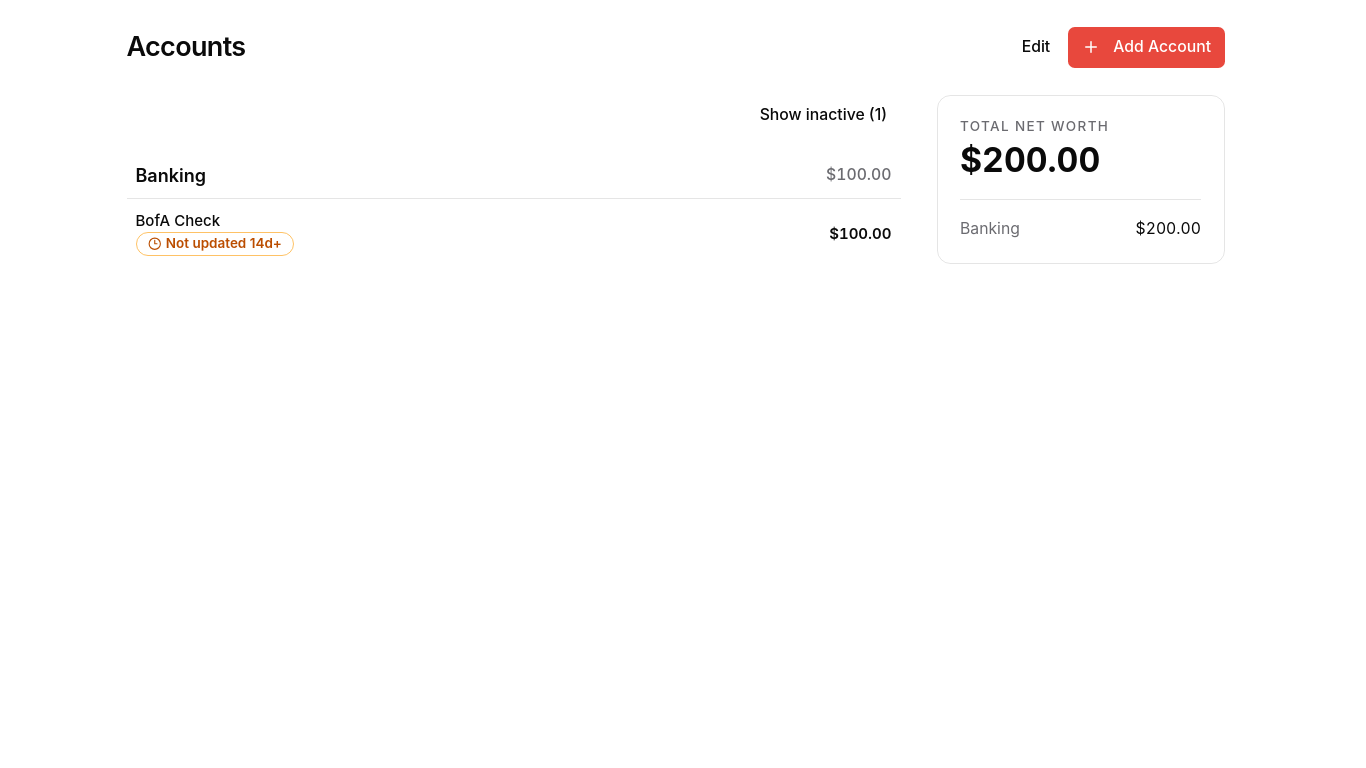
Test: Accounts page -- accessible account form › shows account-save failures inside the open dialog
The image size is (1366, 768).
Expected: the text "BofA Check" is shown, [136,210,220,230]
Click the button "Add Account" at [1146, 47], box [1068,27,1224,68]
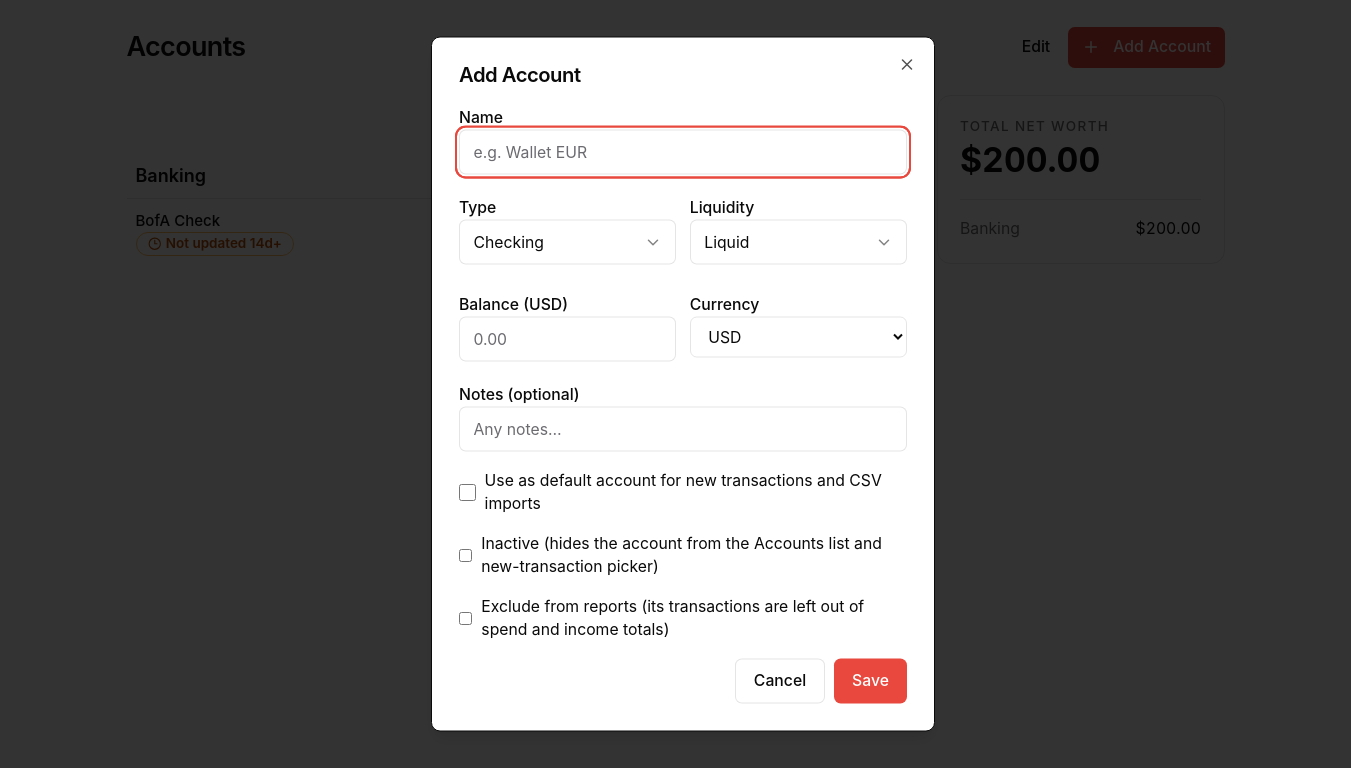
Type "New account" into the field labelled "Name" at [683, 152], box [459,130,907,175]
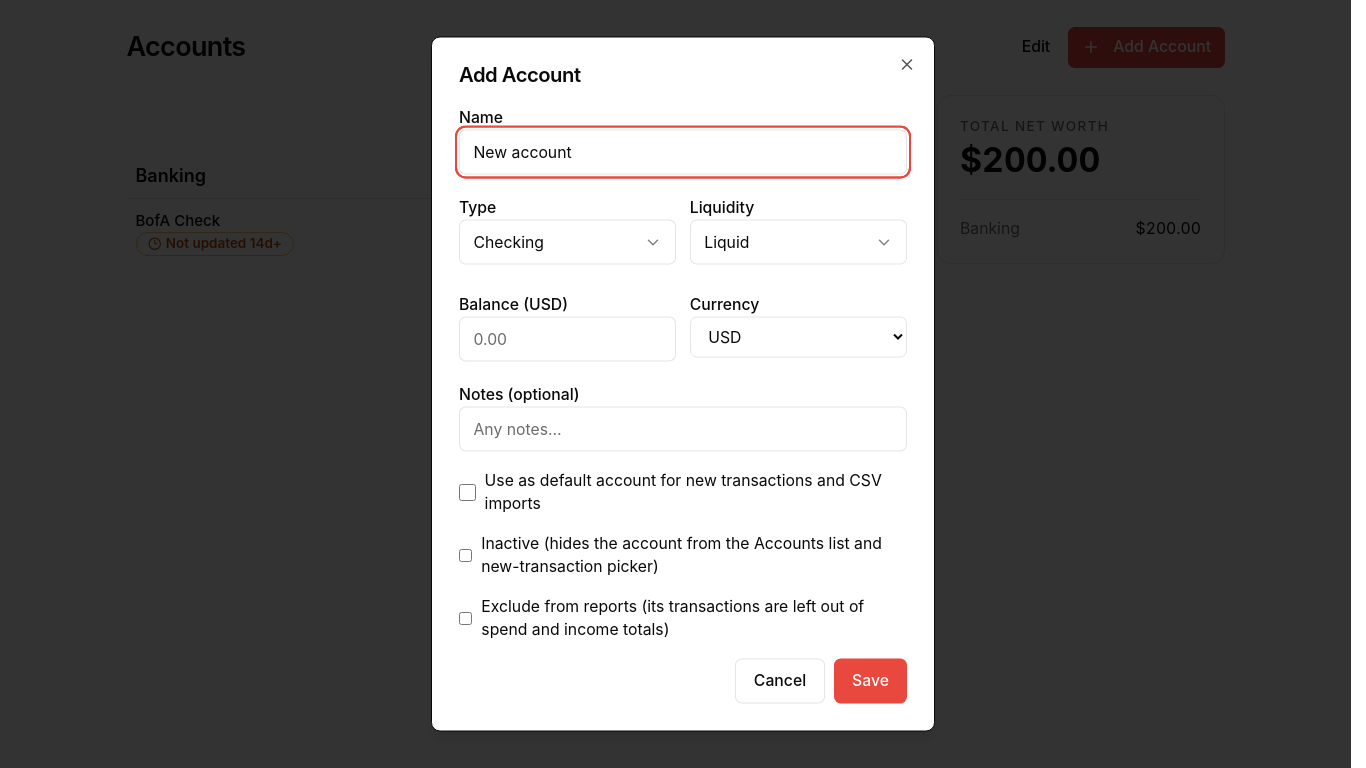
Type "100" into the number field labelled "Balance (USD)" at [568, 339], box [459,316,676,362]
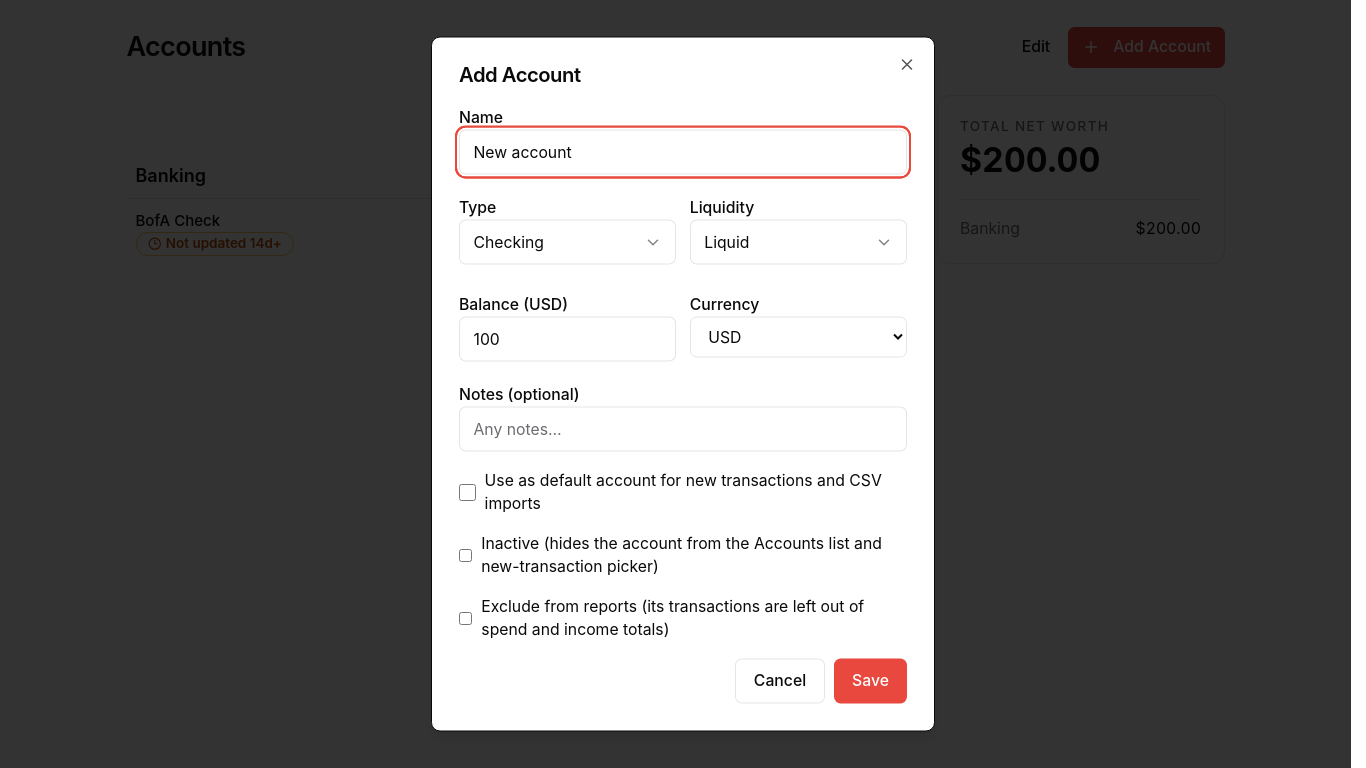
Submit the form named "Save", box [459,103,907,704]
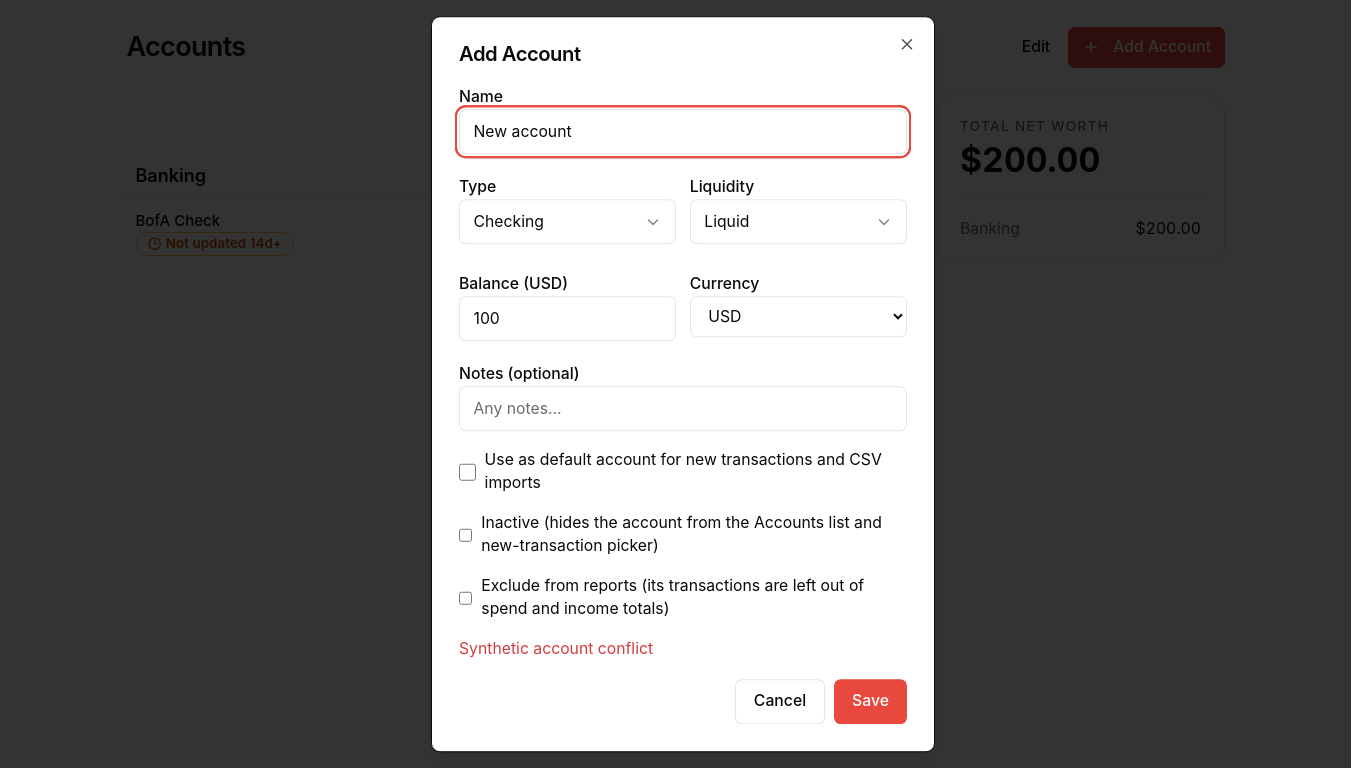
Now the dialog "Add Account" is shown, box [431,16,935,752]
Now the button "Save" is enabled, box [834,679,907,724]
Now the message reads "Synthetic account conflict", box [459,639,653,658]
